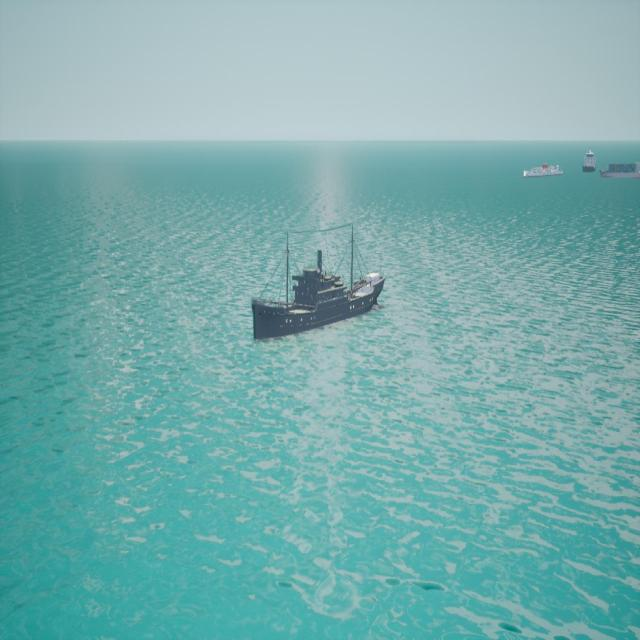fishing ship: (253, 232, 387, 343)
